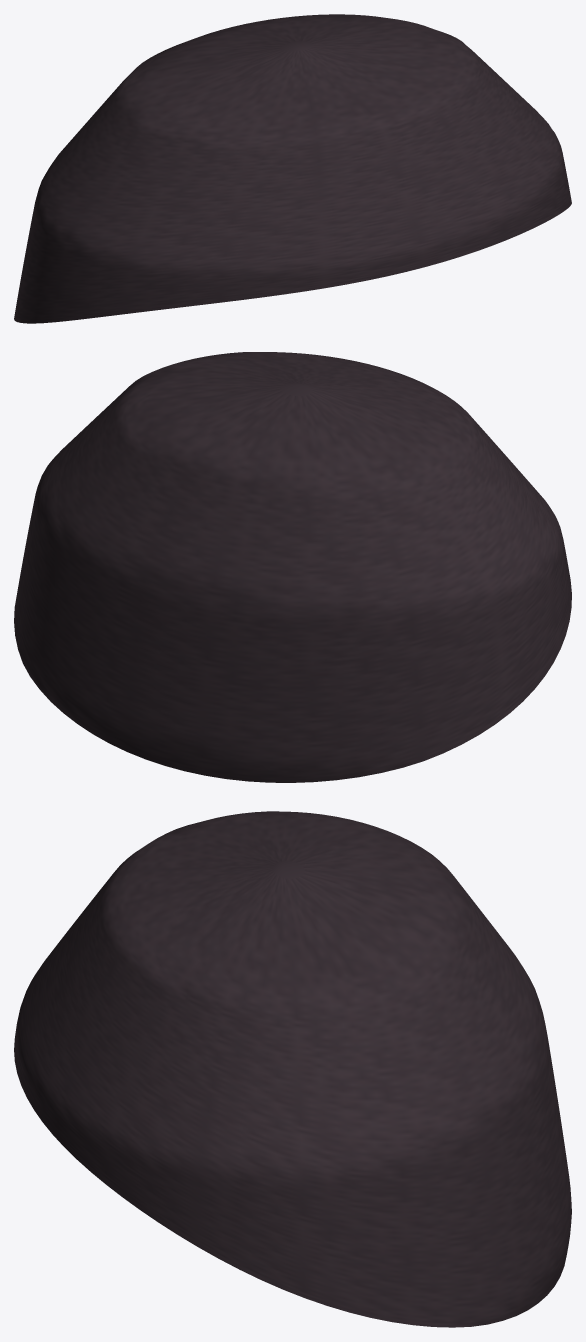
Rendered from hair_buzz_default.gltf.
3 renders of one model, top to bottom at view 1: azimuth 30°, elevation 25°; view 2: azimuth 150°, elevation 25°; view 3: azimuth 270°, elevation 25°, orthographic. The views are drawn at different scales.
Visible parts, largest first — view 1: Clean Buzz default; view 2: Clean Buzz default; view 3: Clean Buzz default.
Boxes of the visible parts, left/top/right/bottom form: Clean Buzz default: left=14, top=14, right=571, bottom=323; Clean Buzz default: left=14, top=352, right=571, bottom=782; Clean Buzz default: left=14, top=811, right=571, bottom=1327.
Bounding box in the file's own units: 0.4499 × 0.2545 × 0.3421.
1 material, 1 textured.
